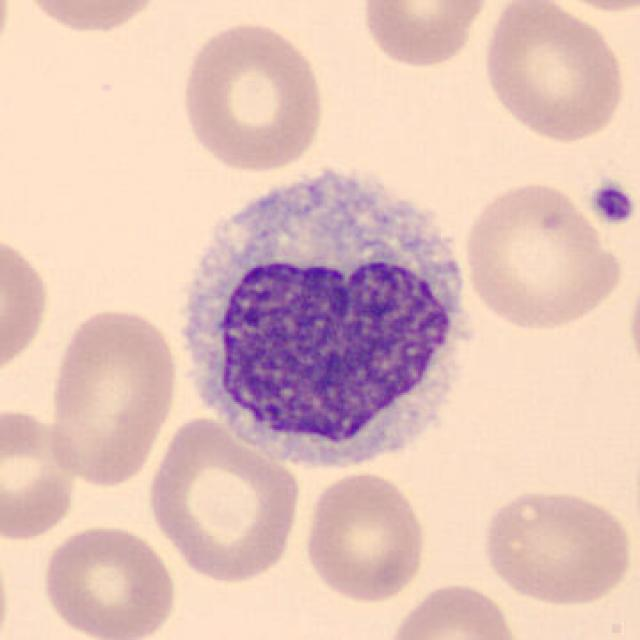Monocyte: (160, 152, 480, 480)
Platelets: (587, 177, 638, 230)
RBC: (144, 413, 304, 587), (43, 302, 181, 490), (457, 178, 622, 333), (176, 16, 327, 174), (476, 0, 630, 145), (476, 485, 634, 608), (300, 467, 430, 607), (39, 522, 180, 640), (0, 404, 82, 543), (358, 0, 492, 71), (380, 578, 524, 640), (0, 228, 55, 384), (12, 0, 169, 37)
